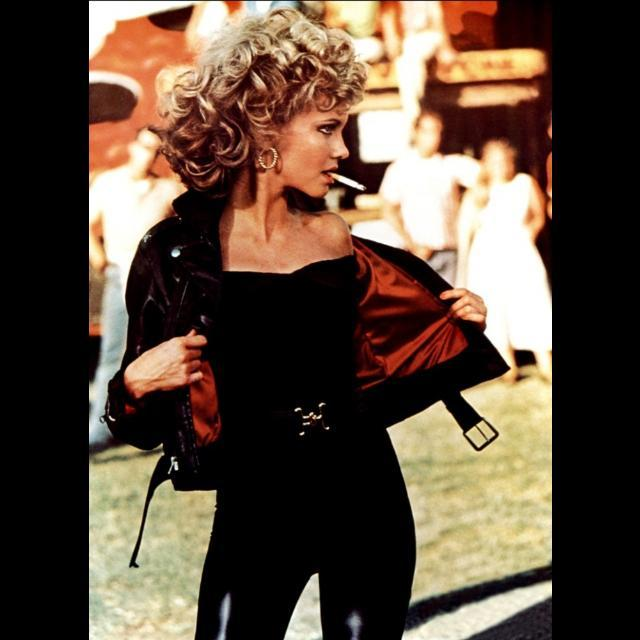rokok: (329, 166, 371, 200)
